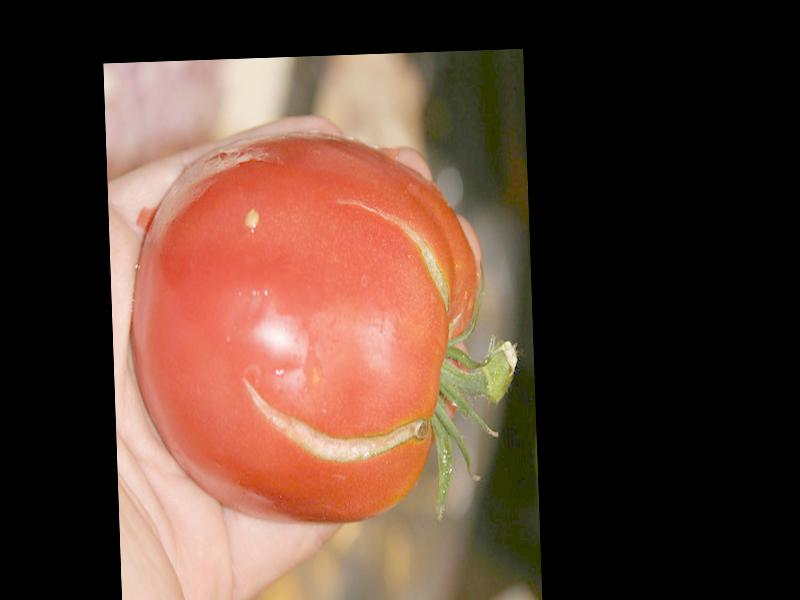Tomato: (125, 128, 486, 524)
